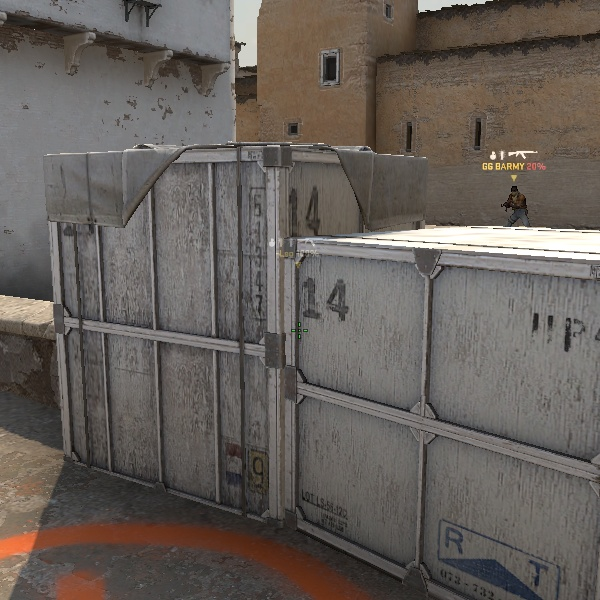t_body: (495, 180, 532, 224)
